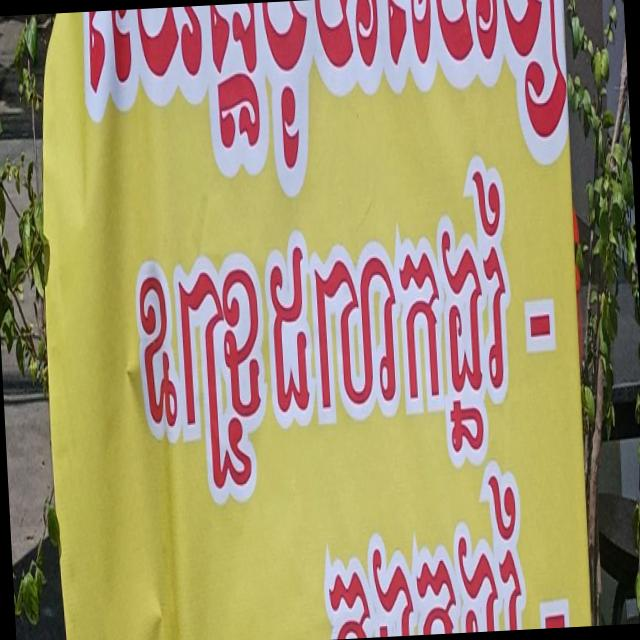Yolov11kh: (119, 159, 525, 567)
